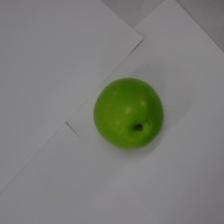green: (92, 76, 164, 150)
